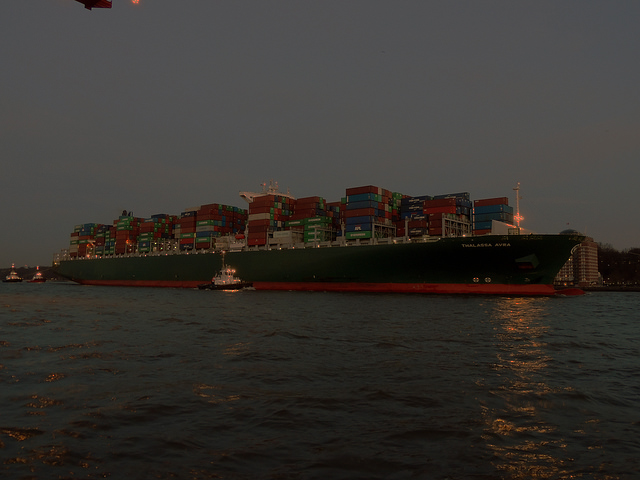container_ship: (50, 179, 592, 303)
tug_boat: (192, 249, 259, 298), (3, 263, 21, 285), (29, 263, 47, 284)
